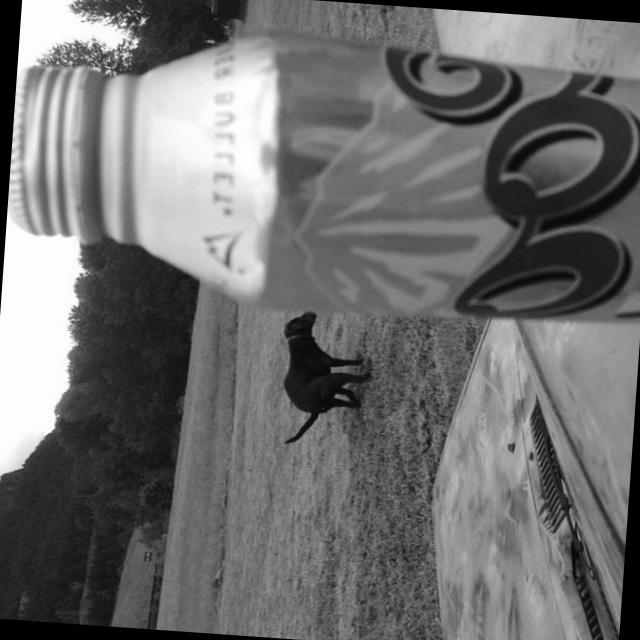squatting: (266, 306, 376, 456)
